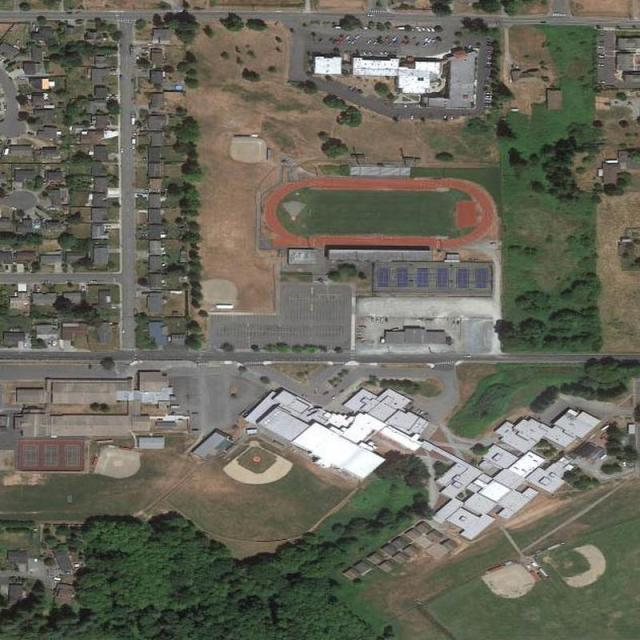vehicle: (130, 112, 135, 124), (130, 137, 137, 145), (129, 45, 133, 58)
